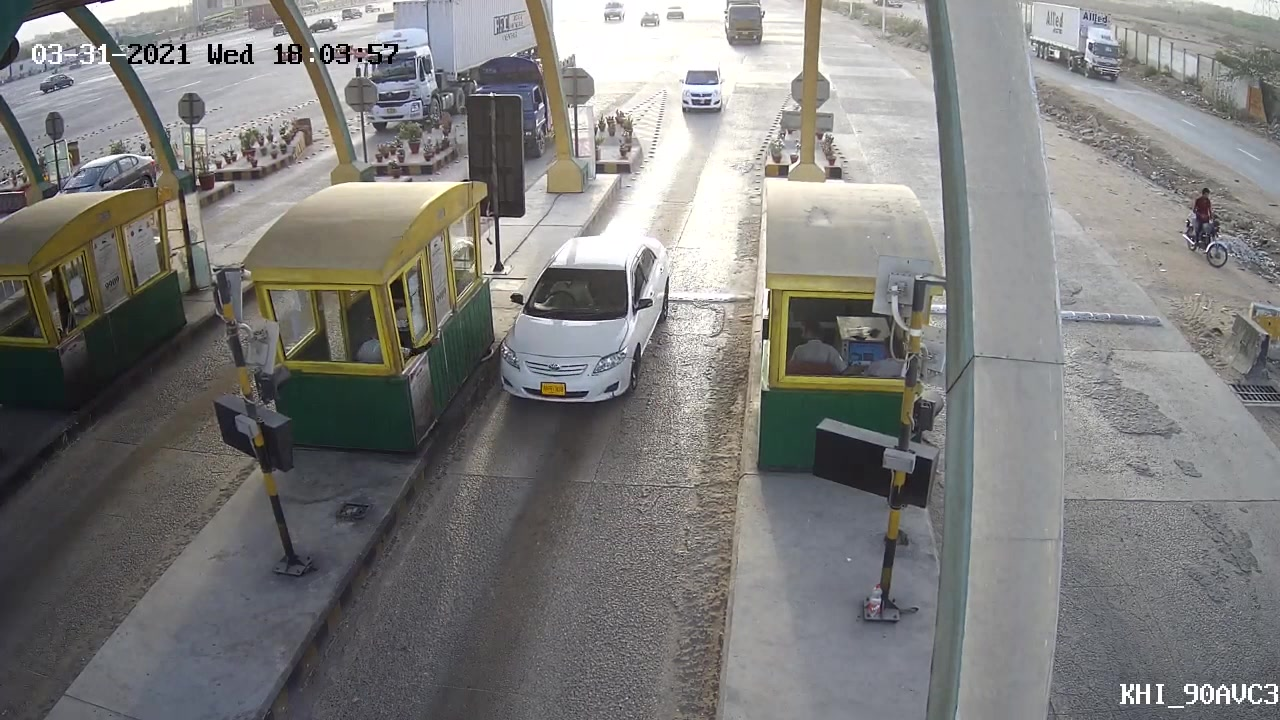F1: (484, 220, 680, 413)
